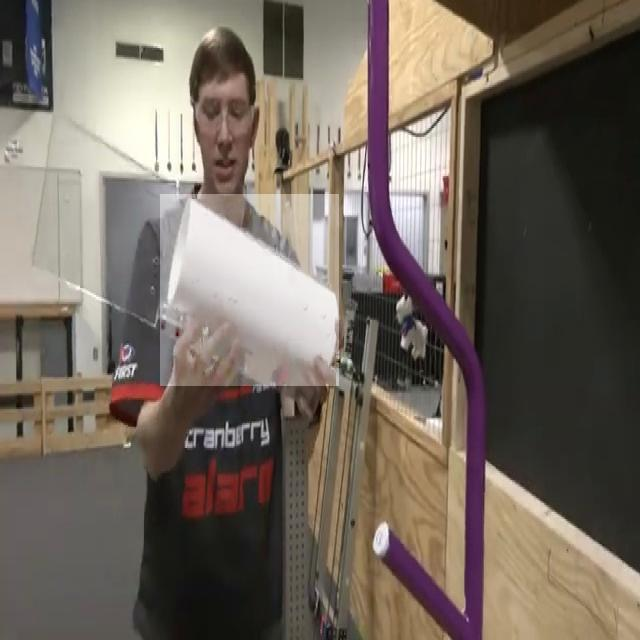Coral: (160, 194, 339, 386)
